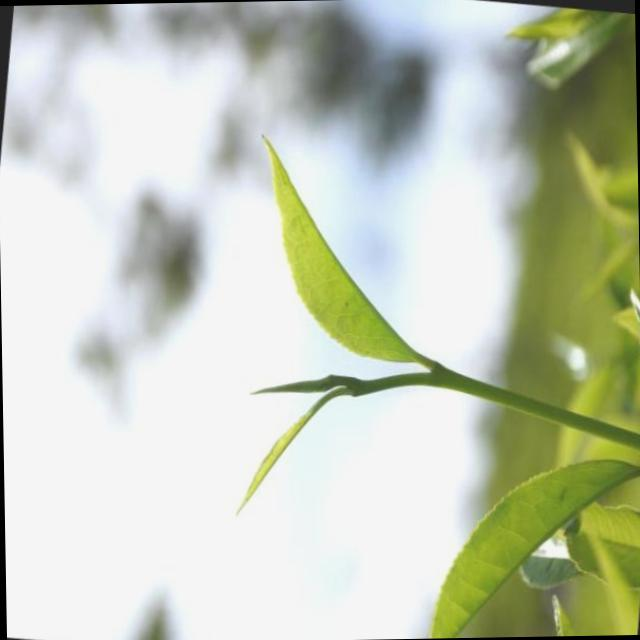Stem: (429, 370, 451, 385)
